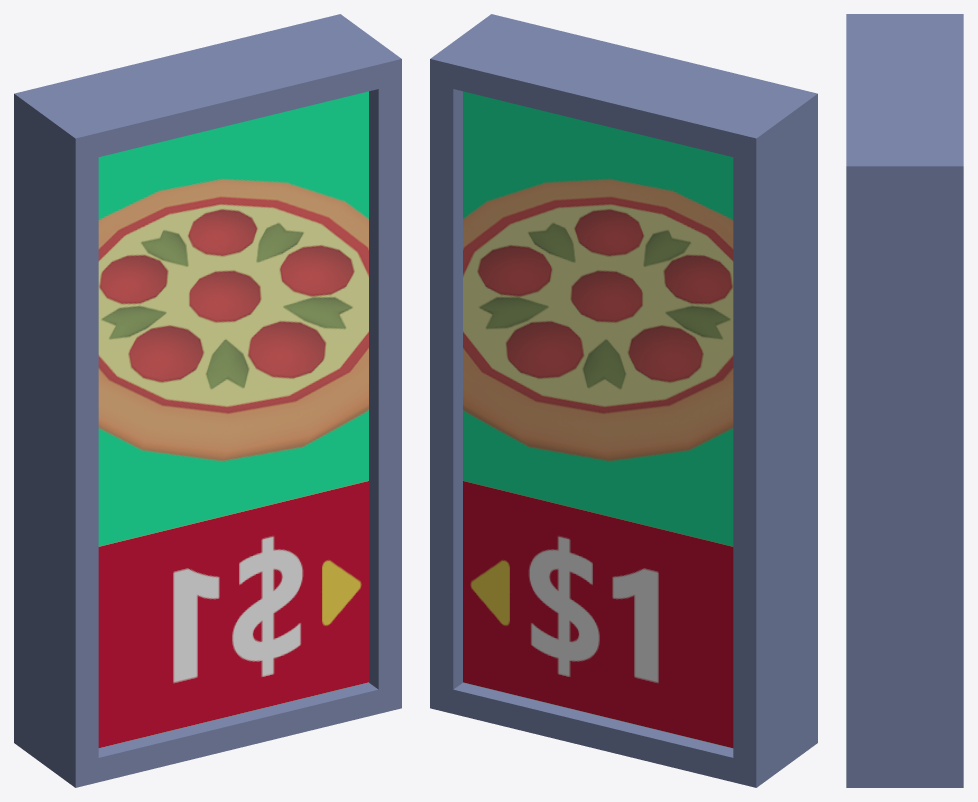
The model's file is adboard_Pizza_geo.fbx.
The picture shows the model from 3 angles, left to right: view 1: azimuth 30°, elevation 25°; view 2: azimuth 150°, elevation 25°; view 3: azimuth 270°, elevation 25°; orthographic projection. The views are drawn at different scales.
Visible parts, largest first — view 1: adboard_Pizza_geo; view 2: adboard_Pizza_geo; view 3: adboard_Pizza_geo.
Part boxes in pixels (bbox=[...]): adboard_Pizza_geo: bbox=[14, 14, 401, 787]; adboard_Pizza_geo: bbox=[430, 14, 817, 787]; adboard_Pizza_geo: bbox=[846, 14, 963, 787].
Size of the model in its own units: 0.7668 by 0.2497 by 1.46.
